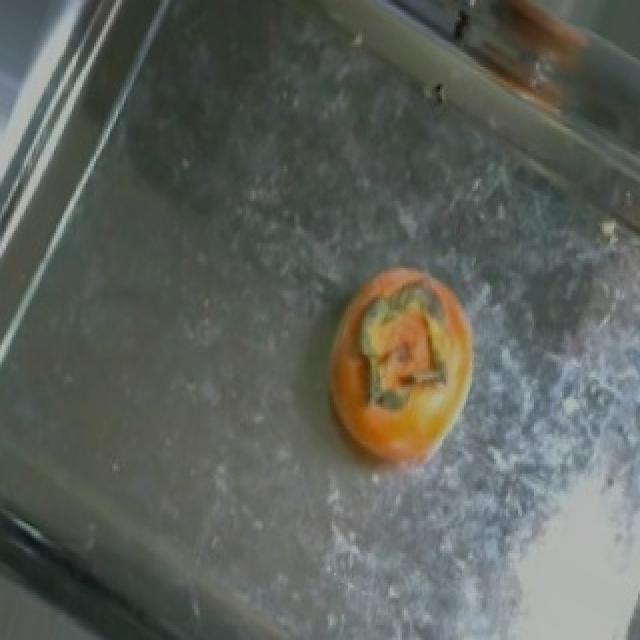Fruit: (302, 246, 494, 498)
